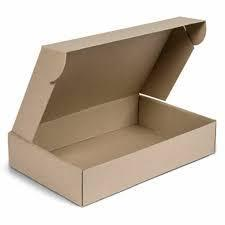box: (7, 15, 215, 206)
